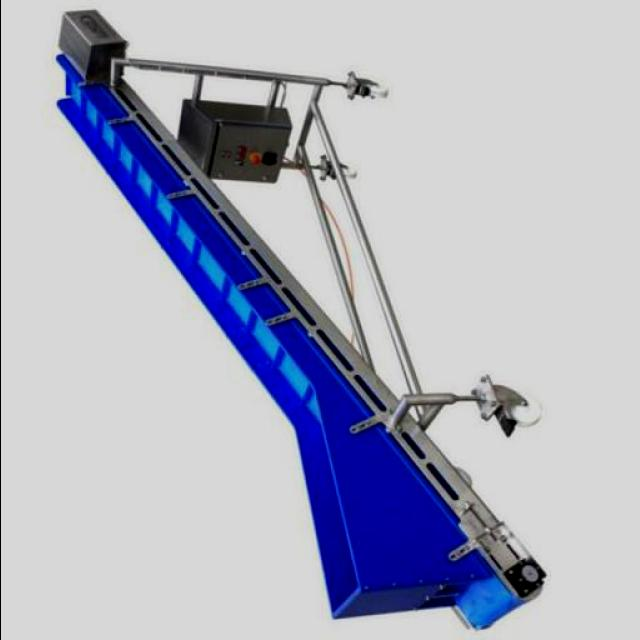conveyor: (61, 63, 323, 430)
